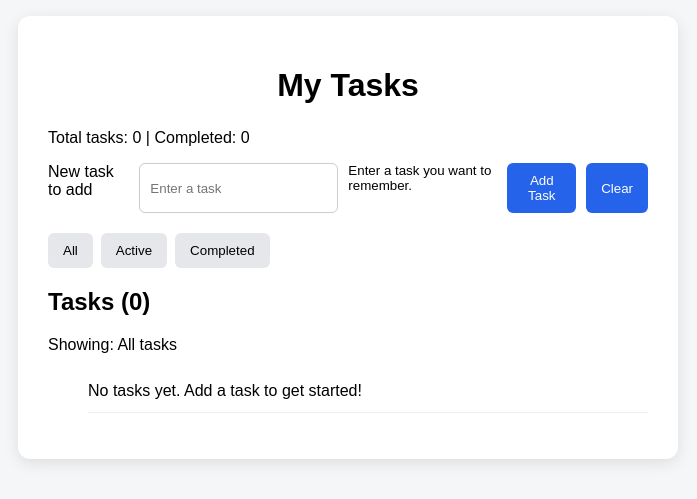
Test: Todo app › deletes a task
Type "Delete me" into the field with placeholder "Enter a task". click: coordinates (239, 188)
box: top-left (139, 163), bottom-right (338, 213)
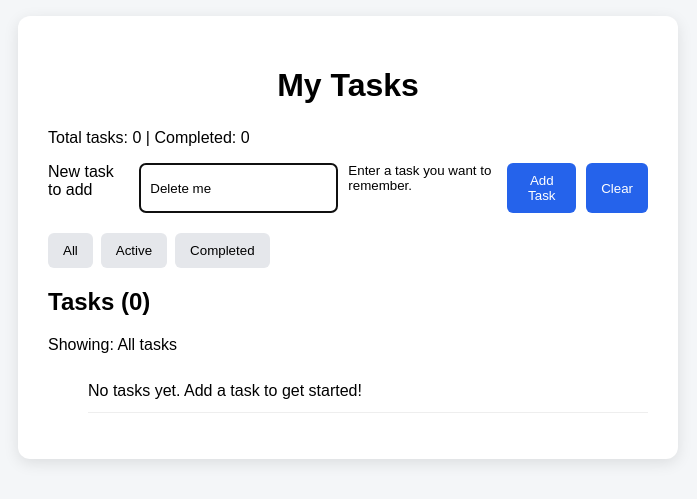
Click the button "Add Task". click: coordinates (542, 188)
box: top-left (508, 163), bottom-right (576, 213)
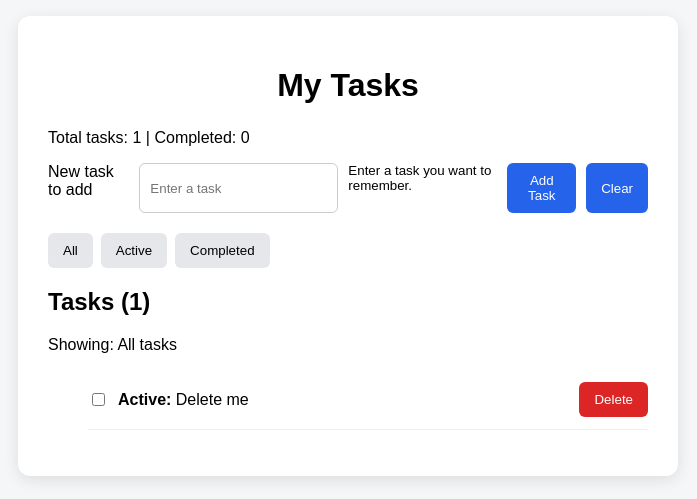
Click the button "Delete". click: coordinates (614, 400)
box: top-left (580, 382), bottom-right (648, 417)
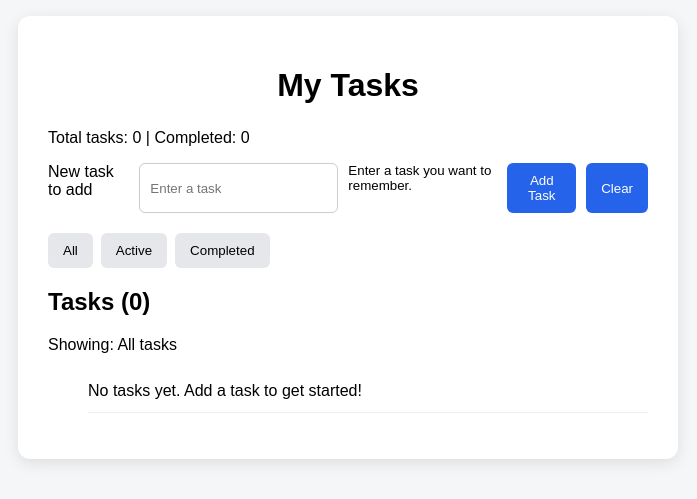
Expected: the text "Delete me" is gone
